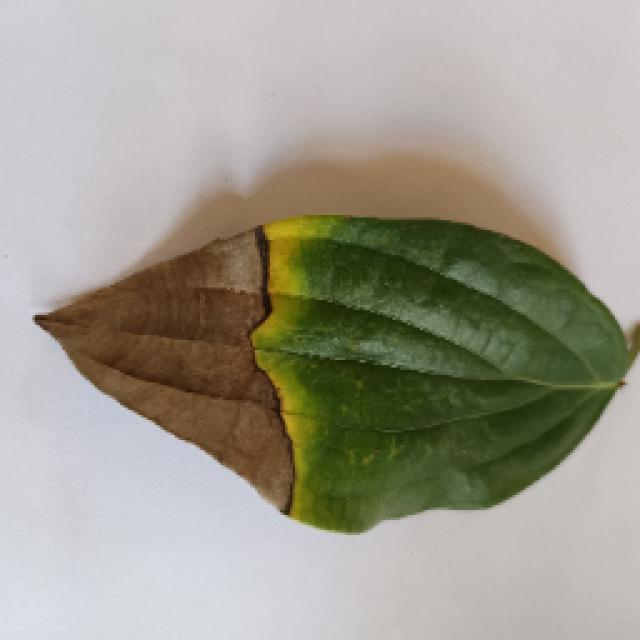footrot: (25, 195, 625, 533)
